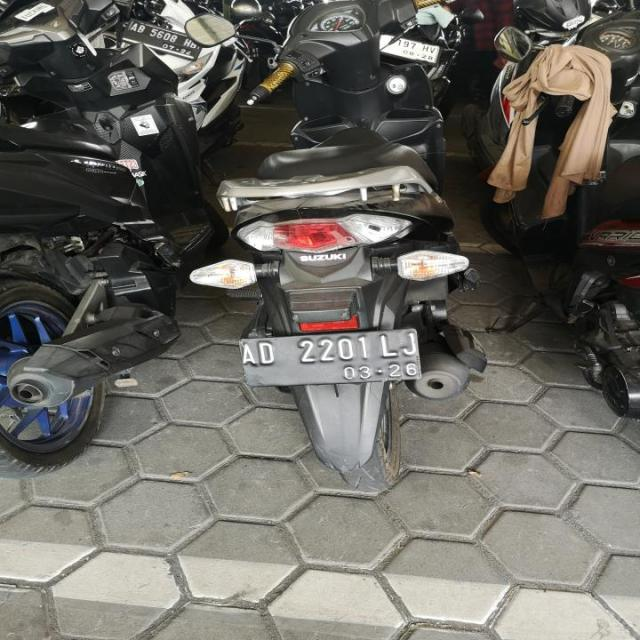License Plate: (239, 324, 426, 388), (122, 18, 204, 62), (378, 33, 442, 65)
